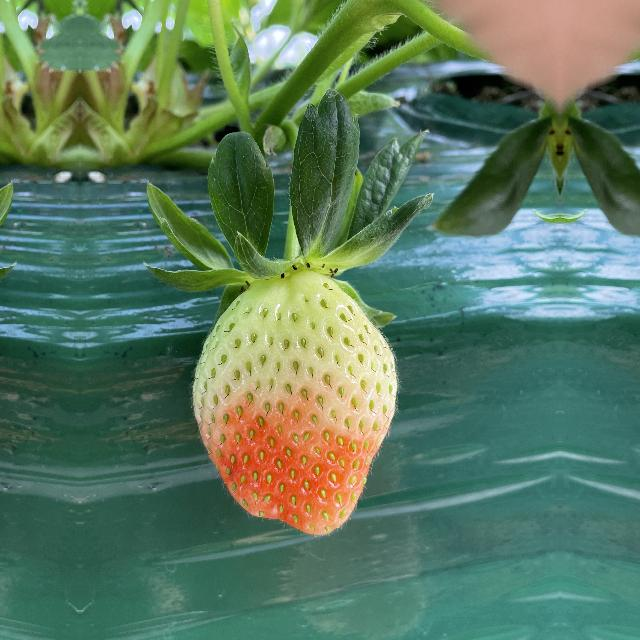Health_50: (183, 266, 409, 538)
